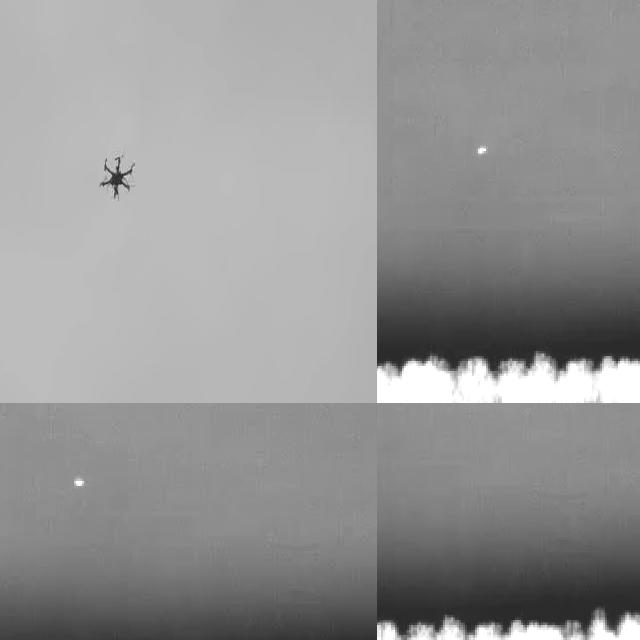1: (69, 470, 95, 497), (473, 141, 497, 166), (377, 405, 383, 430)
drone: (95, 149, 137, 205)
